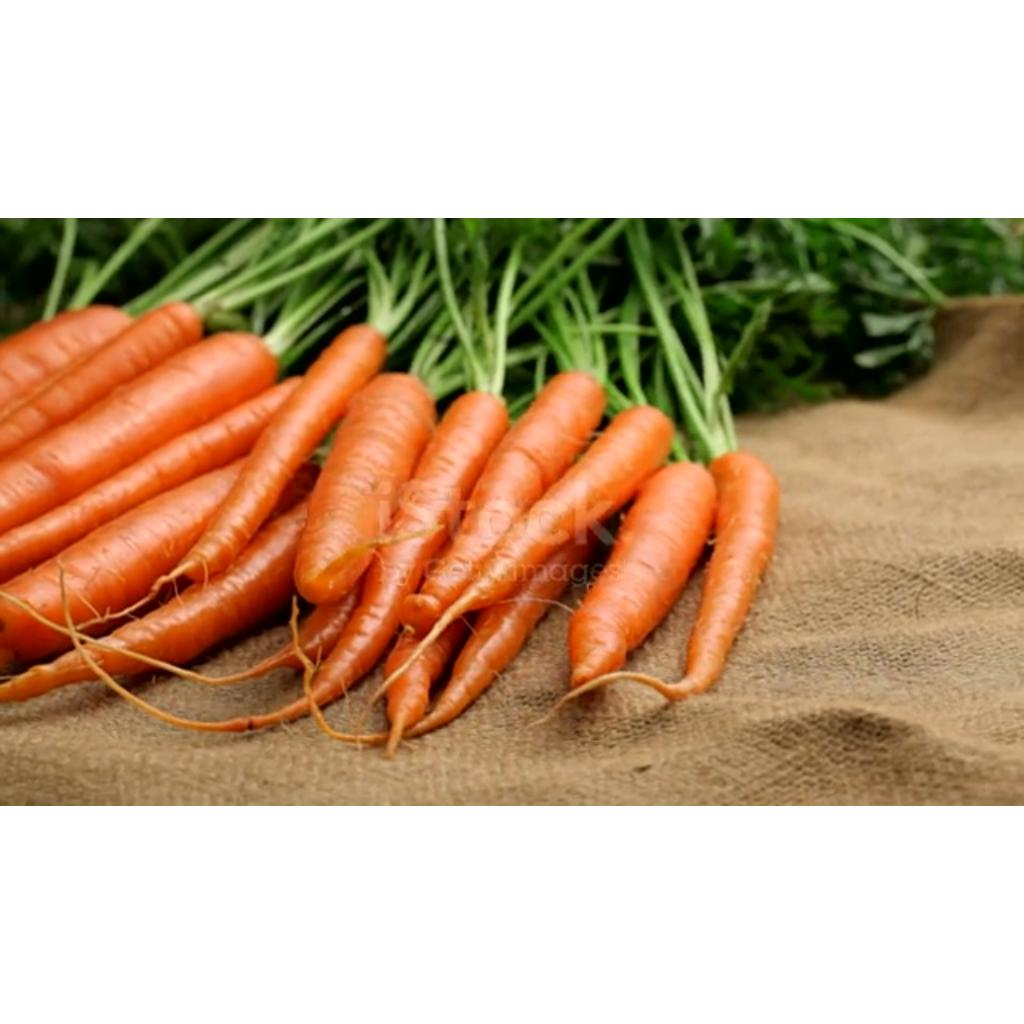carrot: (0, 500, 307, 705), (314, 392, 508, 706), (3, 379, 300, 583), (0, 334, 276, 533), (174, 324, 386, 581), (402, 374, 606, 635), (0, 462, 242, 679), (446, 406, 674, 619), (404, 534, 594, 737), (648, 452, 780, 700), (568, 466, 716, 687), (294, 374, 434, 605), (0, 302, 202, 459), (1, 306, 128, 407), (386, 620, 466, 757)
